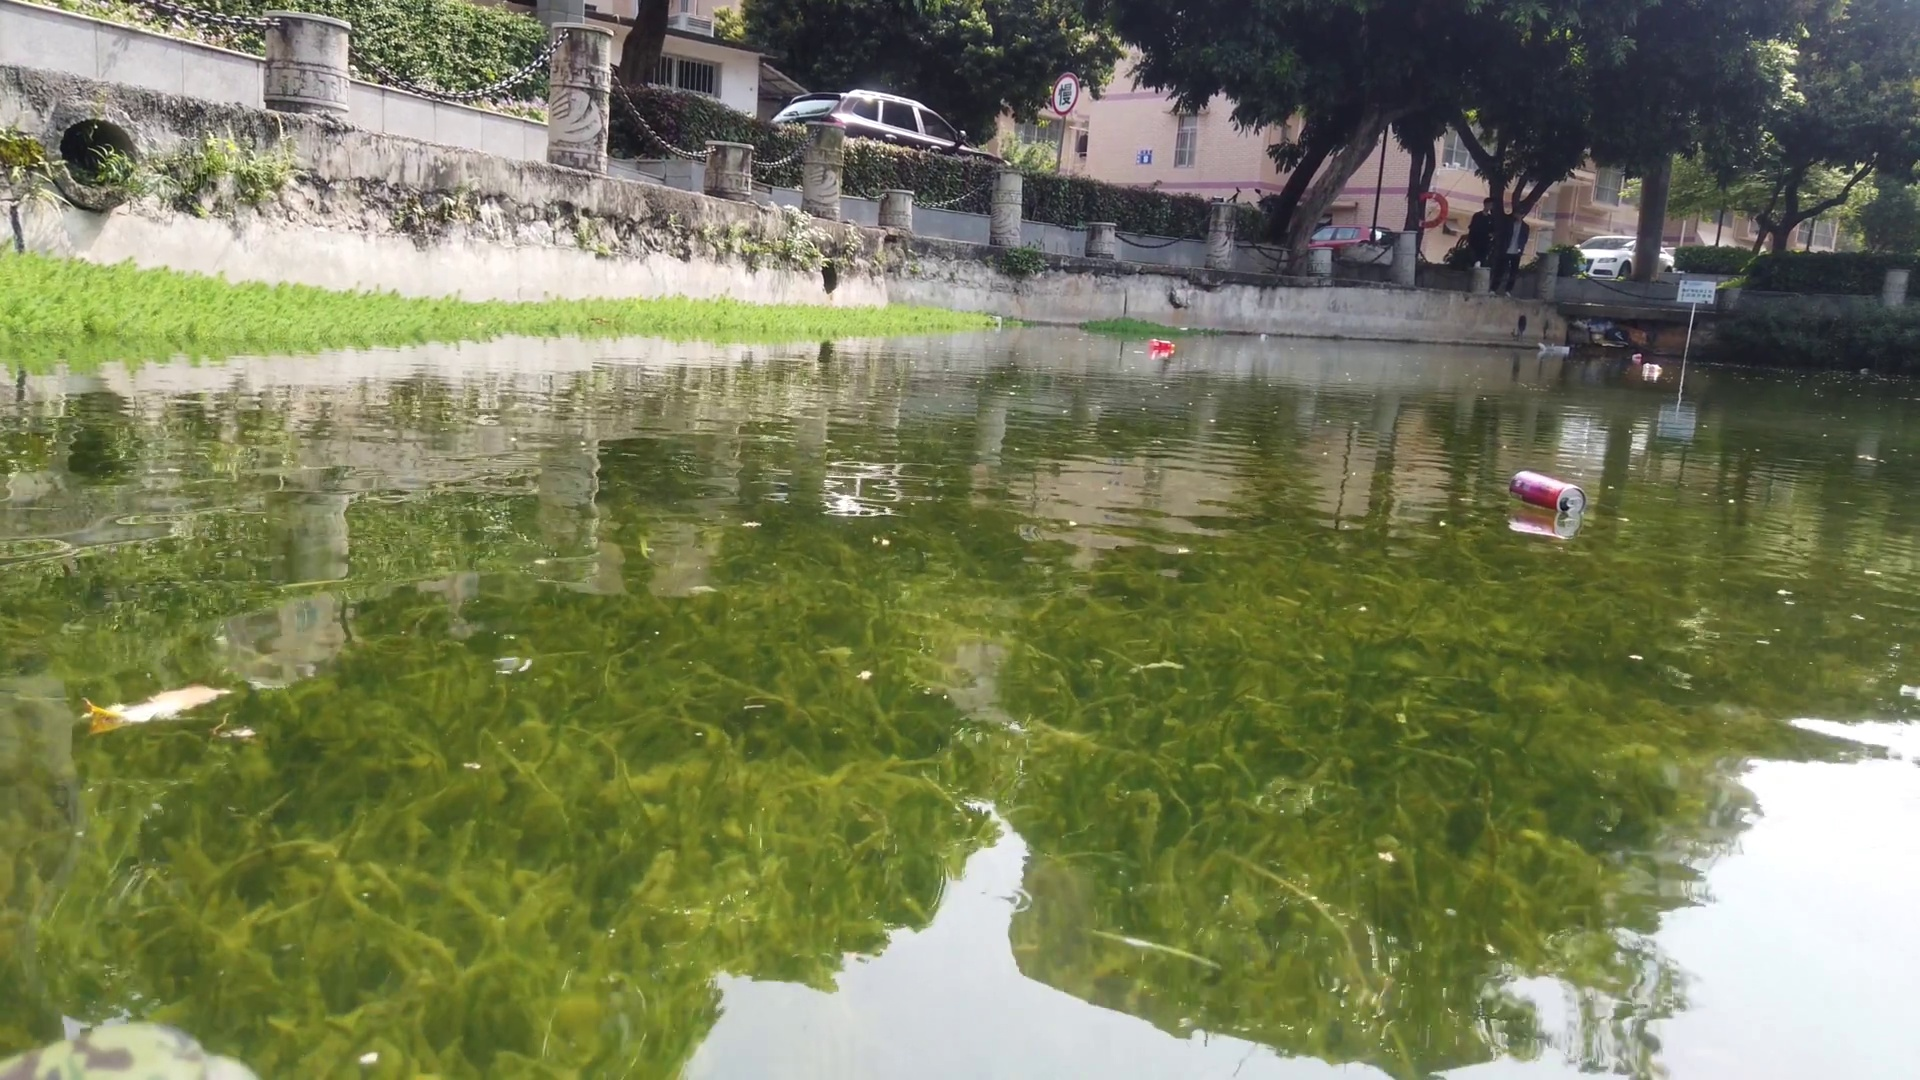bottle: (1503, 465, 1596, 524), (1147, 338, 1178, 353), (1640, 360, 1664, 376), (1631, 351, 1644, 361)
carton: (986, 314, 1006, 328), (1555, 342, 1572, 355), (1255, 330, 1269, 345)
plastic: (1538, 342, 1555, 356)
